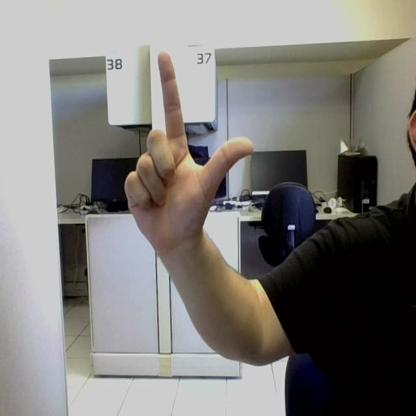L: (125, 52, 253, 249)
